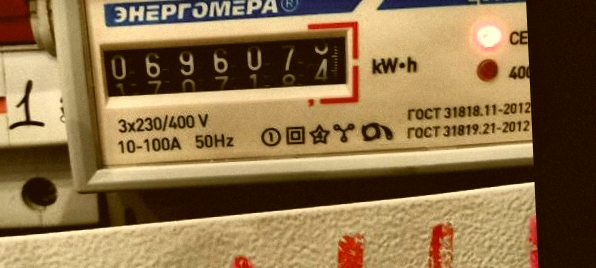0: (244, 41, 263, 72), (109, 52, 128, 80)
4: (312, 53, 330, 83)
6: (143, 49, 162, 78), (211, 44, 229, 74)
7: (278, 41, 298, 73)
9: (176, 48, 196, 76)
screen: (86, 17, 367, 113)
